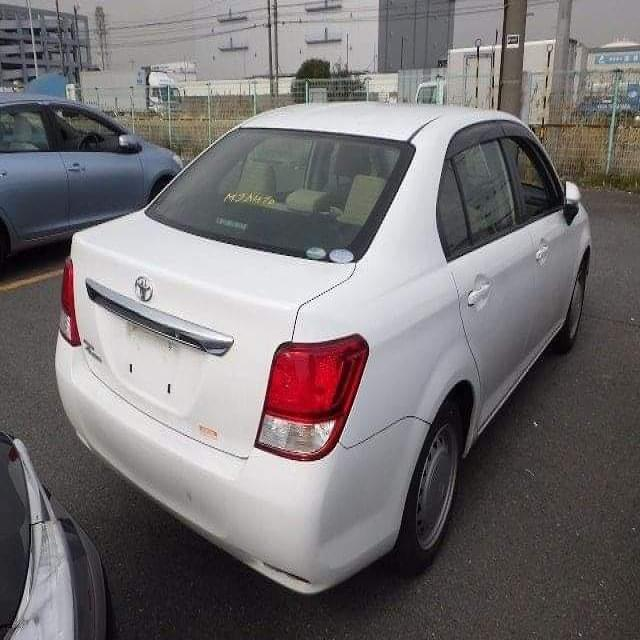silver: (0, 71, 169, 232)
white: (82, 92, 629, 640)
